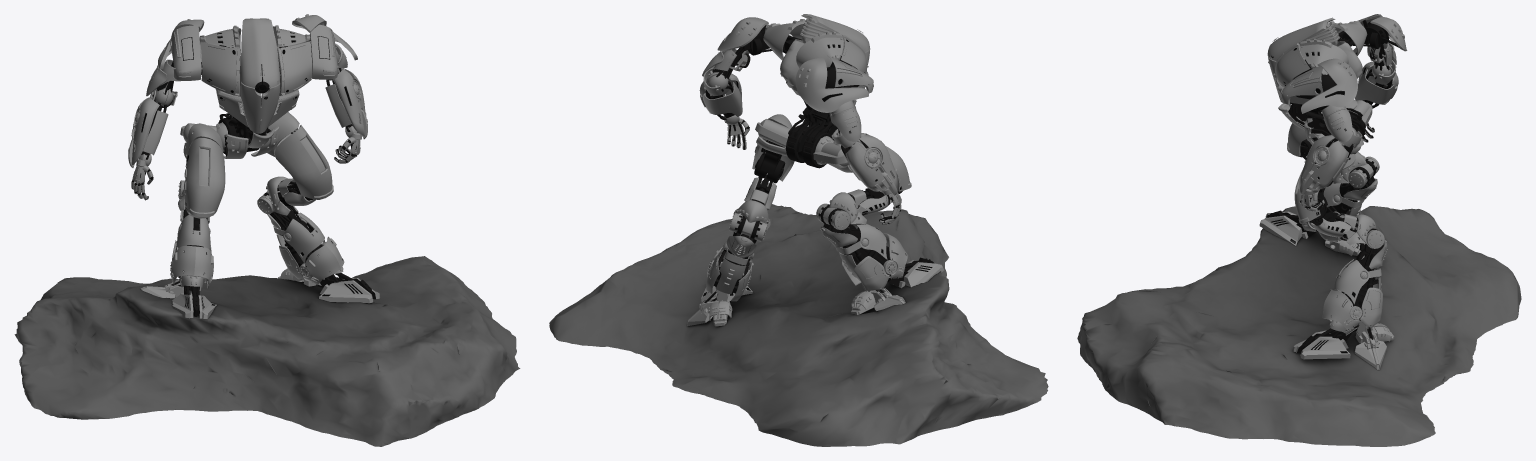
The model's file is mech_m-6k.glb.
3 renders of one model, left to right at view 1: azimuth 30°, elevation 25°; view 2: azimuth 150°, elevation 25°; view 3: azimuth 270°, elevation 25°, orthographic. The views are drawn at different scales.
Visible parts, largest first — view 1: Object_8, Object_10, Object_11, Object_16, Object_14, Object_12; view 2: Object_8, Object_11, Object_10, Object_16, Object_12; view 3: Object_8, Object_11, Object_10, Object_16, Object_14.
Boxes of the visible parts, <box> form: Object_8: <box>14,256,520,446</box>; Object_10: <box>128,18,367,285</box>; Object_11: <box>138,14,379,318</box>; Object_16: <box>132,33,376,317</box>; Object_14: <box>136,32,362,308</box>; Object_12: <box>267,112,299,156</box>; Object_8: <box>549,204,1048,446</box>; Object_11: <box>687,17,944,326</box>; Object_10: <box>699,14,911,301</box>; Object_16: <box>704,25,933,302</box>; Object_12: <box>755,114,792,156</box>; Object_8: <box>1077,206,1521,446</box>; Object_11: <box>1259,14,1407,369</box>; Object_10: <box>1267,17,1398,330</box>; Object_16: <box>1266,19,1399,352</box>; Object_14: <box>1271,48,1366,353</box>.
Bounding box in the file's own units: 107 × 75.07 × 94.55.
Materials: 7 (1 with a texture image).
